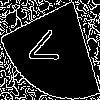V: (24, 25, 67, 72)
